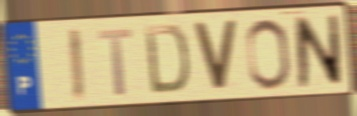D: (142, 23, 192, 97)
I: (65, 26, 88, 104)
N: (292, 12, 344, 90)
O: (244, 16, 293, 92)
T: (96, 26, 135, 99)
V: (190, 20, 240, 95)
